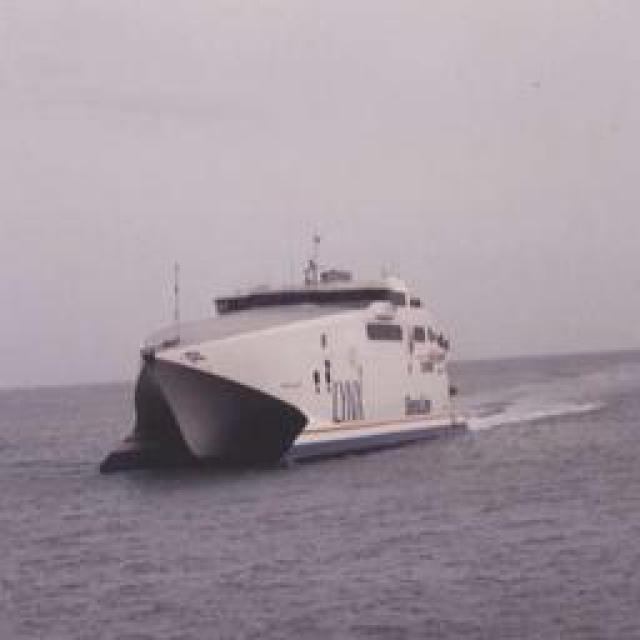Ship: (119, 266, 469, 469)
